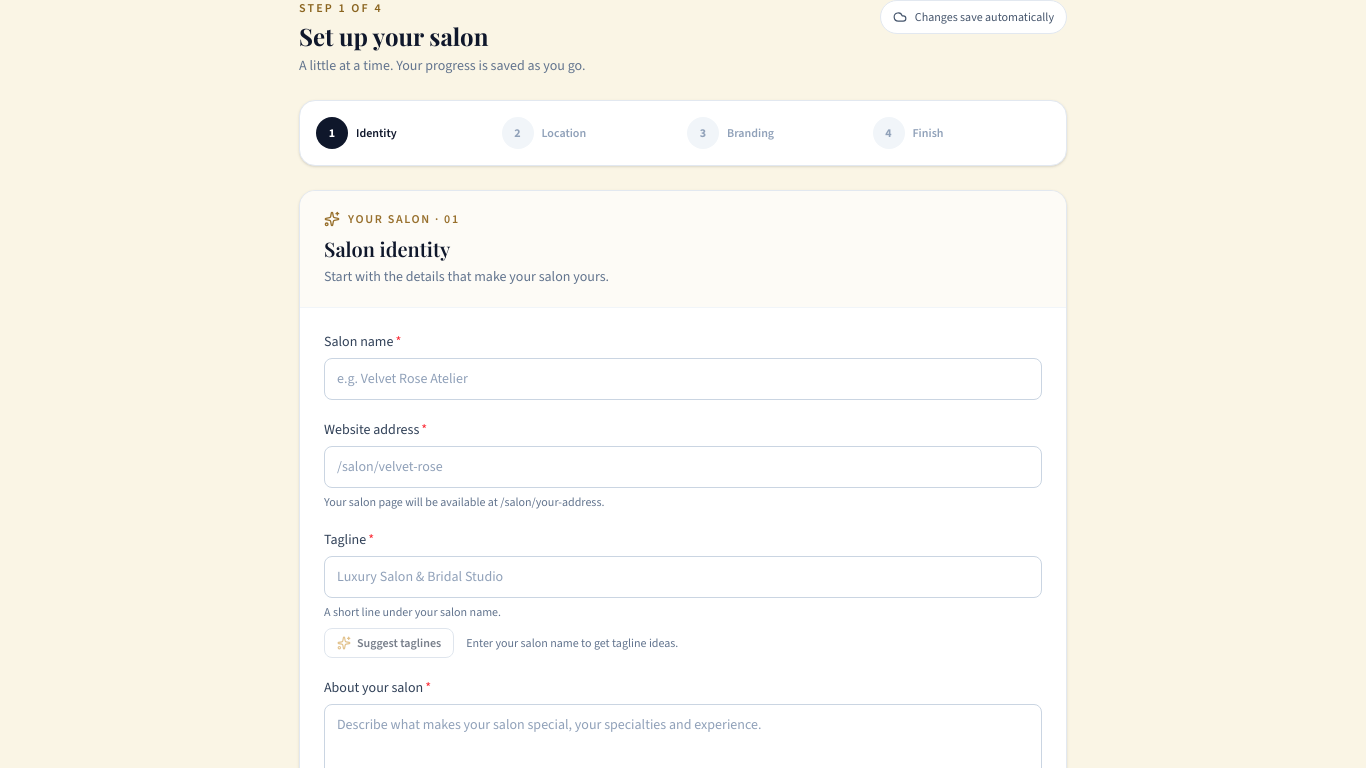
Test: salon onboarding wizard › keeps the user on the current step when saving fails and retries safely
The width and height of the screenshot is (1366, 768).
Check: the heading "Salon identity" is shown, box [324,235,450,262]
Type "Offline Salon" into the field labelled "Salon name" at (683, 379), box [324,358,1042,400]
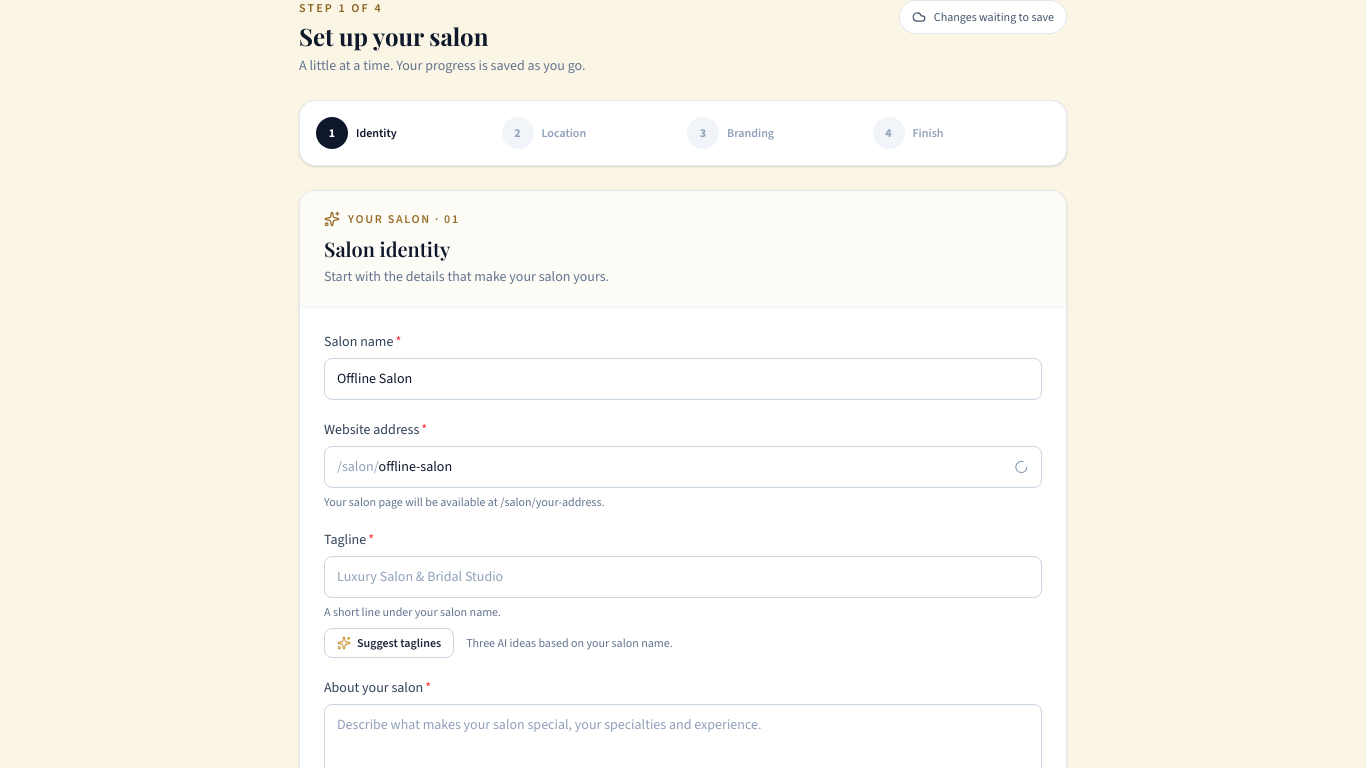
Type "Glow together" into the field labelled "Tagline" at (683, 577), box [324,556,1042,598]
(page scrolled)
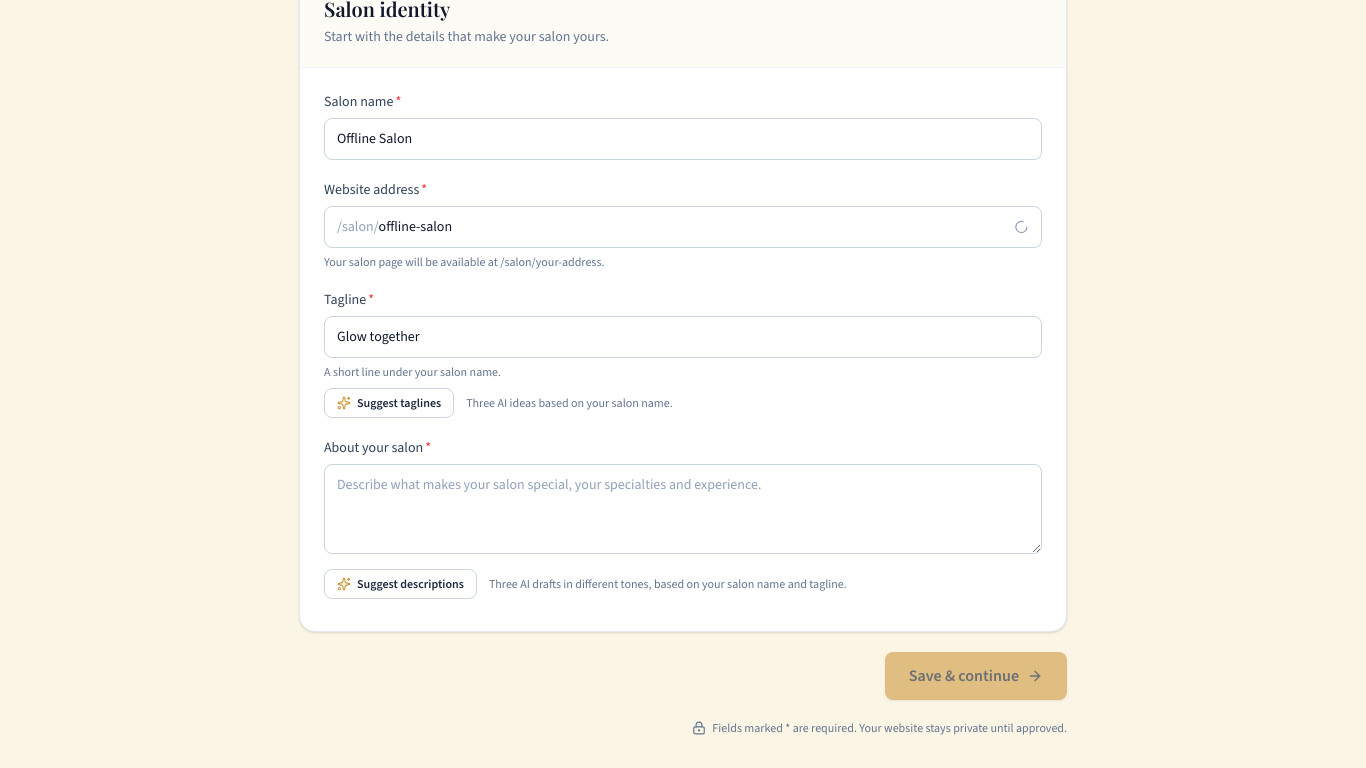
Replace the text in the text box labelled "About your salon" with "A lovely neighbourhood salon." at (683, 509), box [324,464,1042,554]
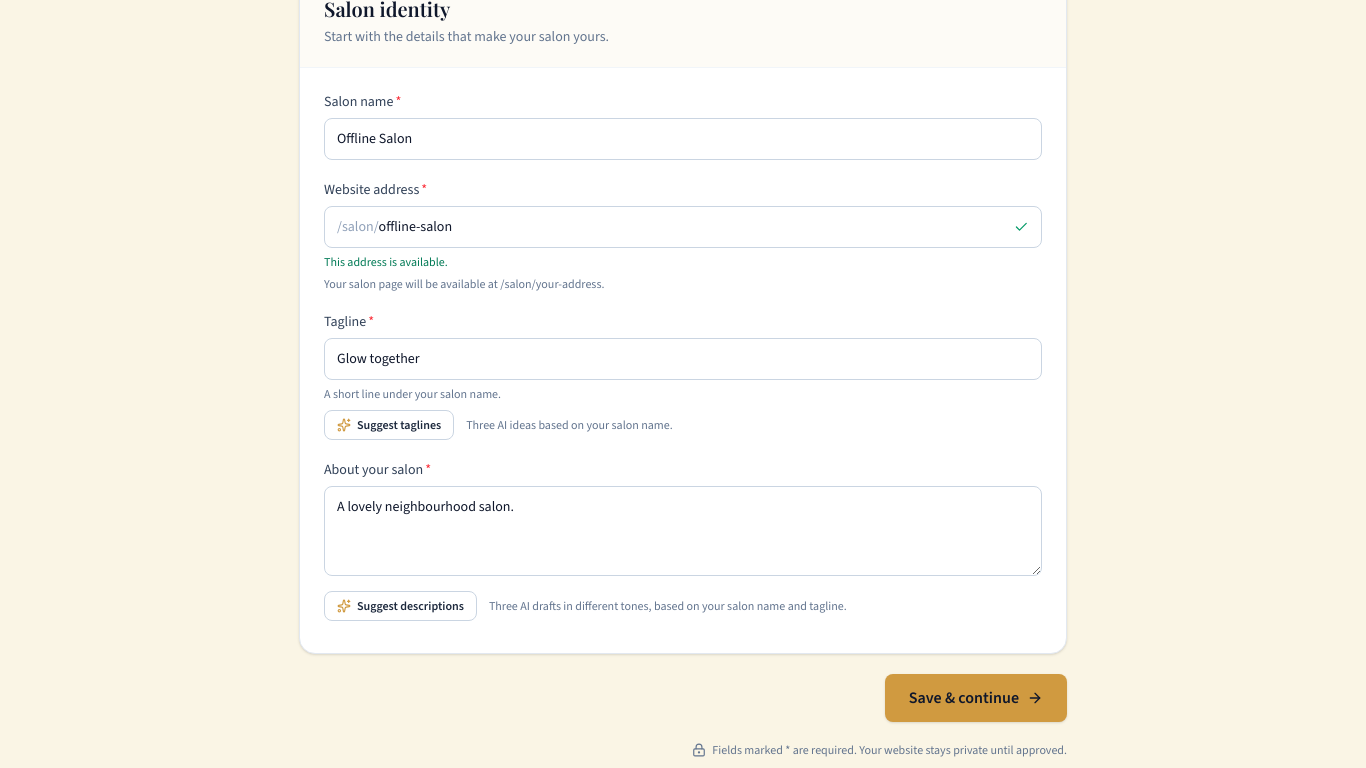
Check: the button "Save & continue" is enabled
Click the button "Save & continue" at (976, 698), box [885,674,1067,722]
(page scrolled)
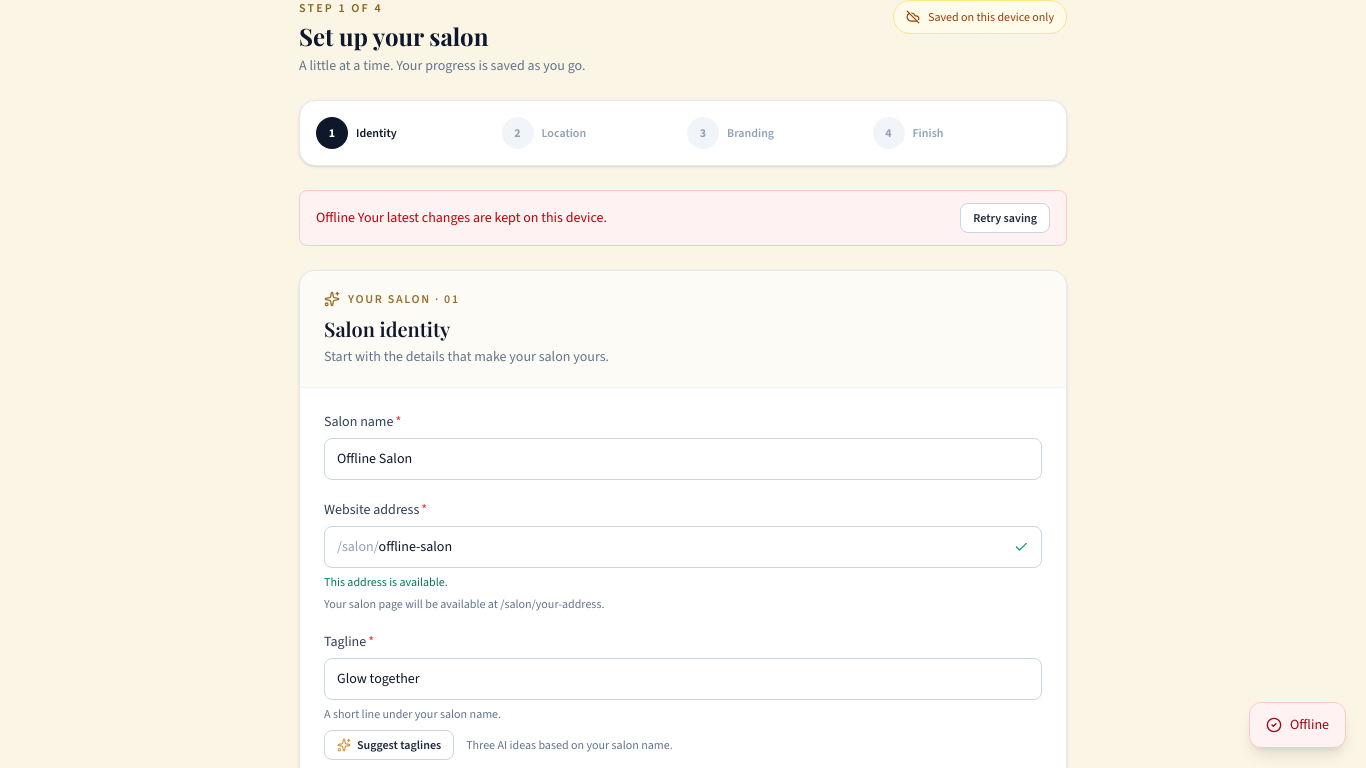
Check: the heading "Salon identity" is shown, box [324,315,450,342]
Check: the text "Saved on this device only" is shown, box [893,0,1067,34]
Click the button "Retry saving" at (1005, 218), box [960,203,1050,233]
(page scrolled)
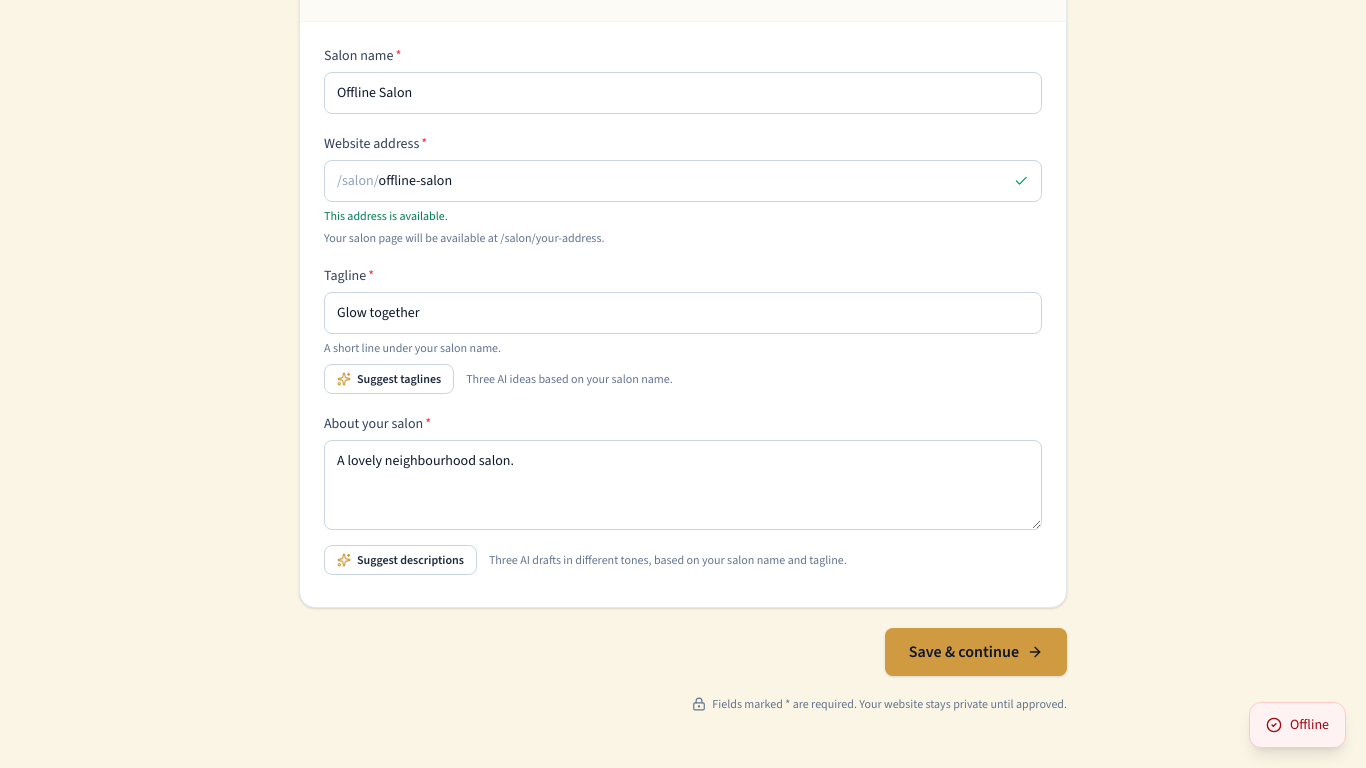
Click the button "Save & continue" at (976, 652), box [885,628,1067,676]
(page scrolled)
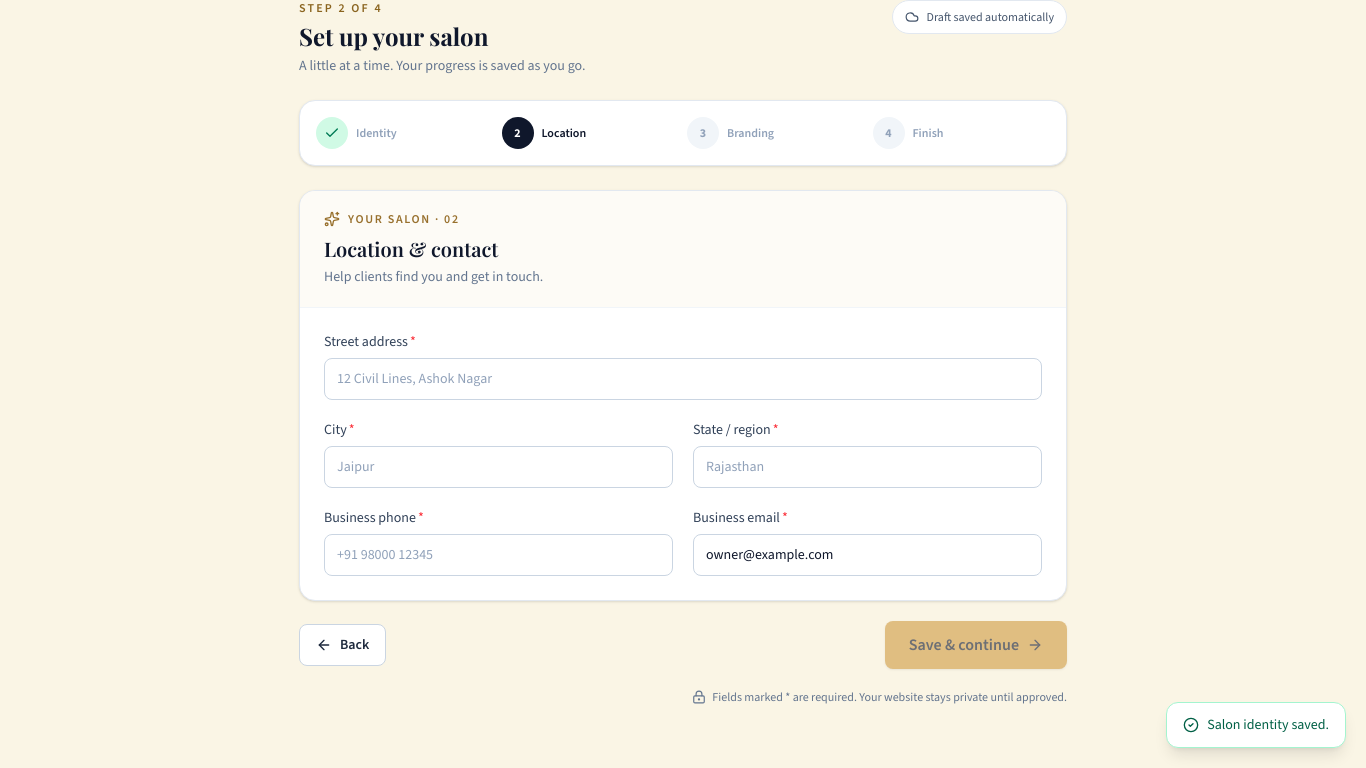
Check: the heading "Location & contact" is shown, box [324,235,498,262]
